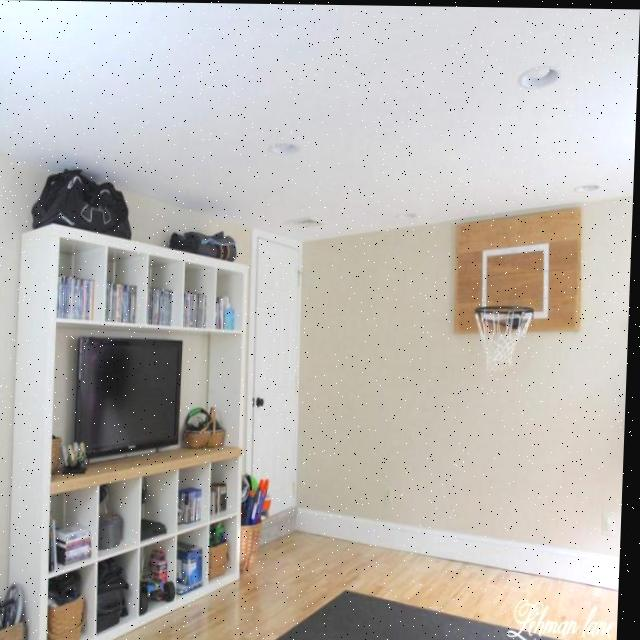hoop: (472, 304, 534, 373)
